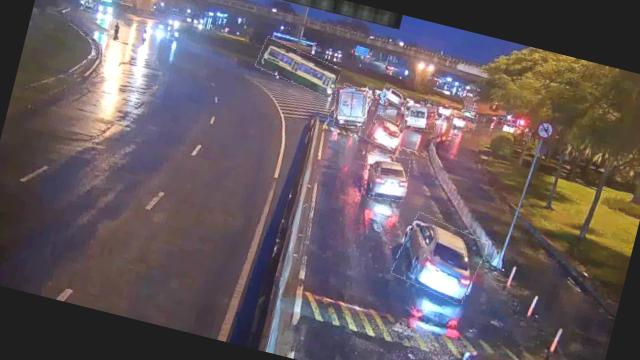Bike: (108, 19, 124, 41)
Bus: (254, 39, 344, 96), (328, 82, 373, 132), (402, 101, 438, 134), (452, 110, 477, 132)
Car: (391, 213, 488, 305), (358, 150, 413, 204), (364, 114, 404, 150), (380, 85, 409, 108), (451, 110, 478, 132)
Truck: (328, 83, 372, 131)
